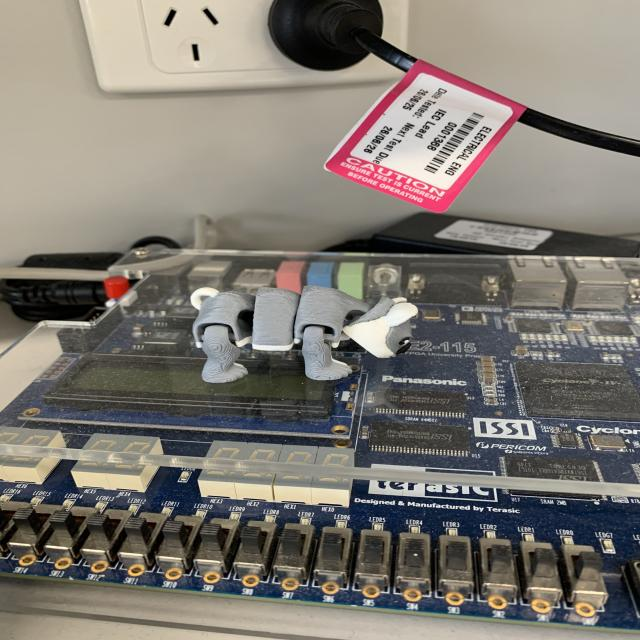koala: (183, 278, 417, 383)
